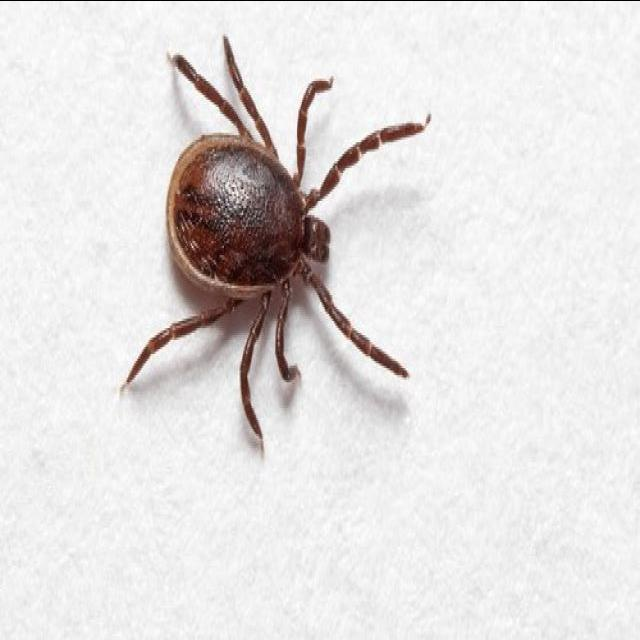Ixodes Ricinus-M: (125, 33, 430, 445)
